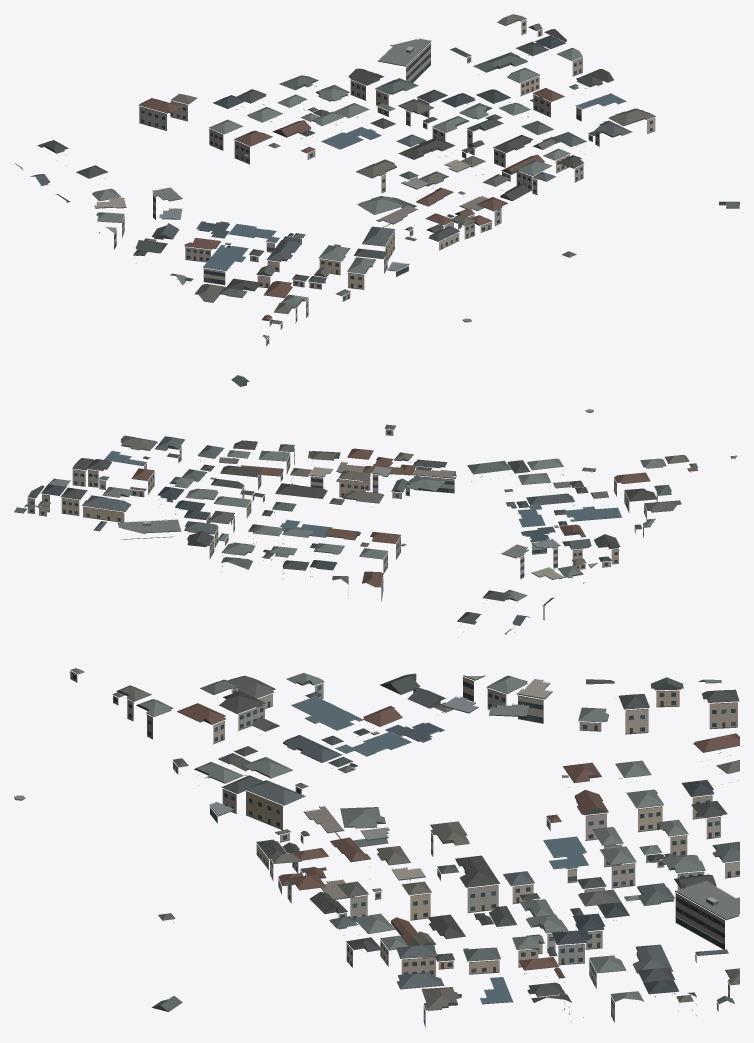
3 renders of one model, top to bottom at view 1: azimuth 30°, elevation 25°; view 2: azimuth 150°, elevation 25°; view 3: azimuth 270°, elevation 25°, orthographic. The views are drawn at different scales.
Parts seen in each view (by area): view 1: r7-c6; view 2: r7-c6; view 3: r7-c6.
Part boxes in pixels (left/top/right/bottom): r7-c6: left=14, top=14, right=739, bottom=346; r7-c6: left=14, top=375, right=736, bottom=636; r7-c6: left=14, top=668, right=739, bottom=1028.
Size of the model in its own units: 250 by 23.11 by 231.
